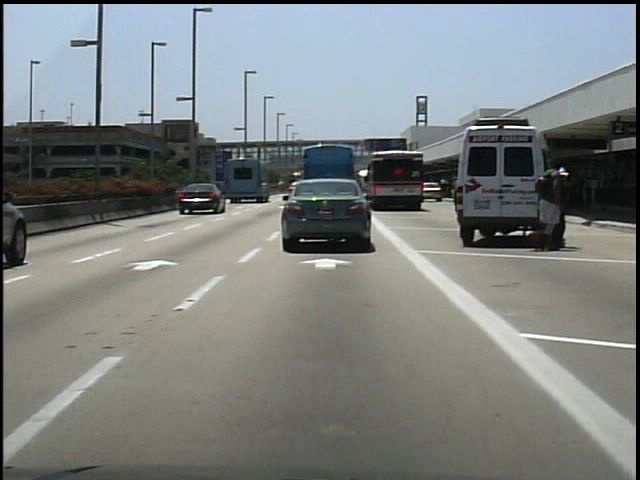person: (538, 160, 570, 253), (557, 168, 573, 248)
